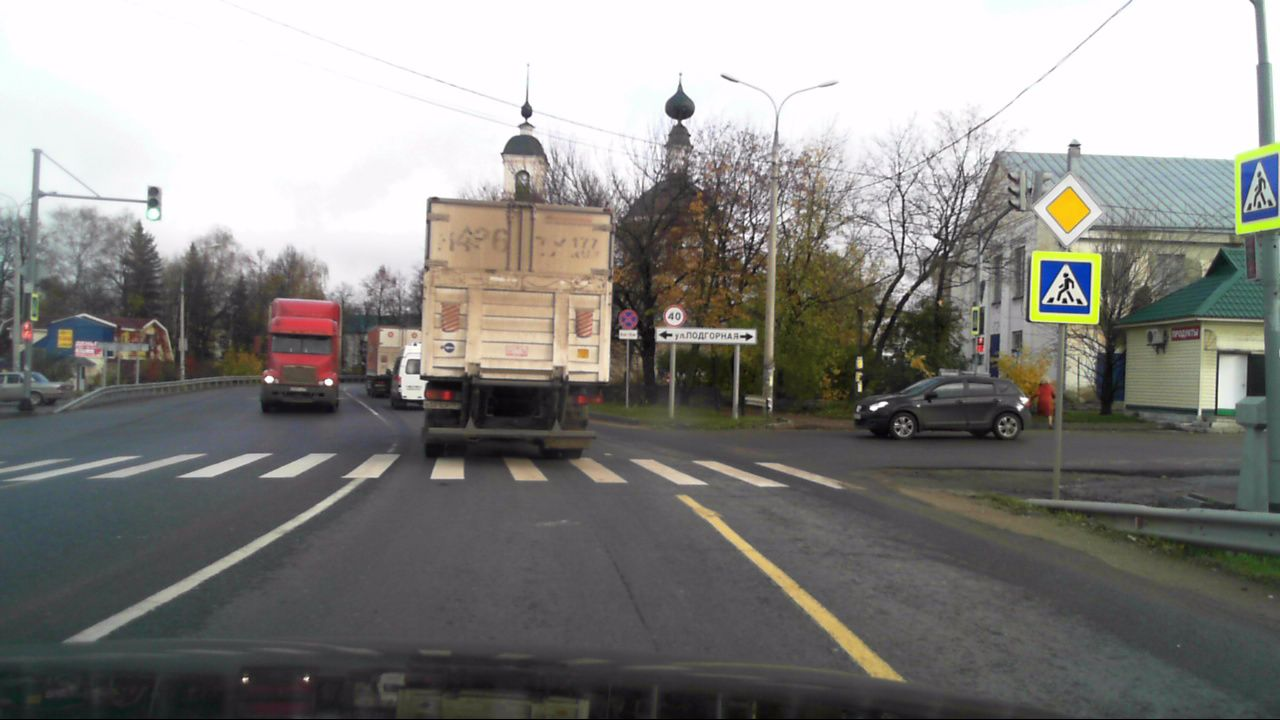No Parking: (617, 308, 639, 329)
speed_warning_40: (663, 305, 686, 328)
